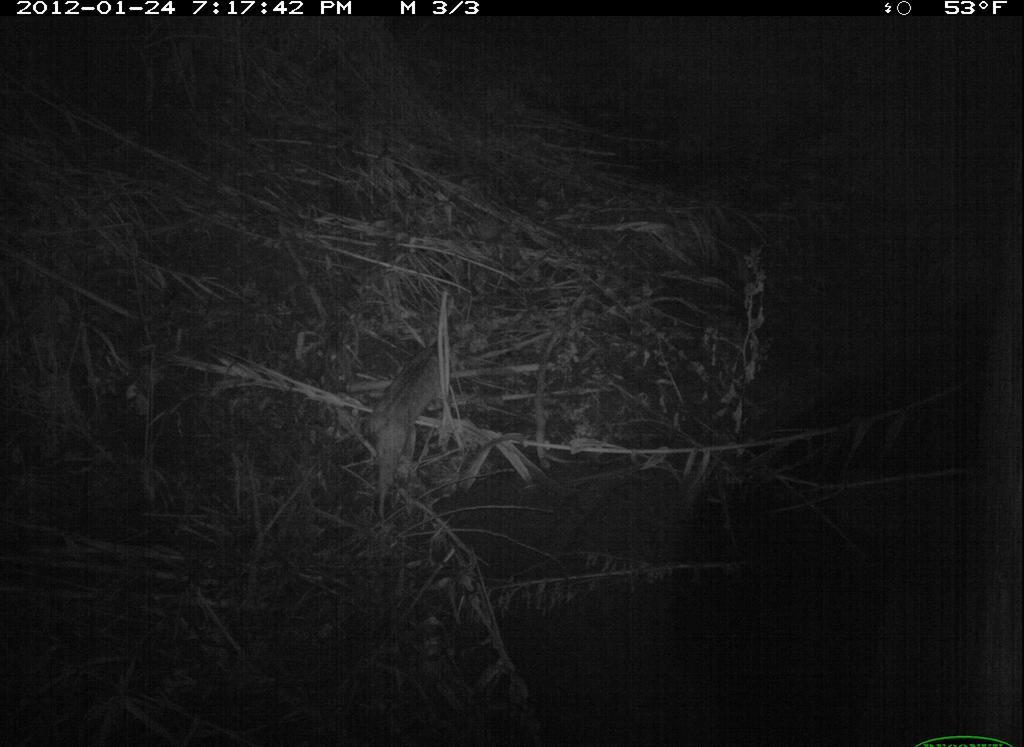bobcat: (353, 303, 502, 532)
